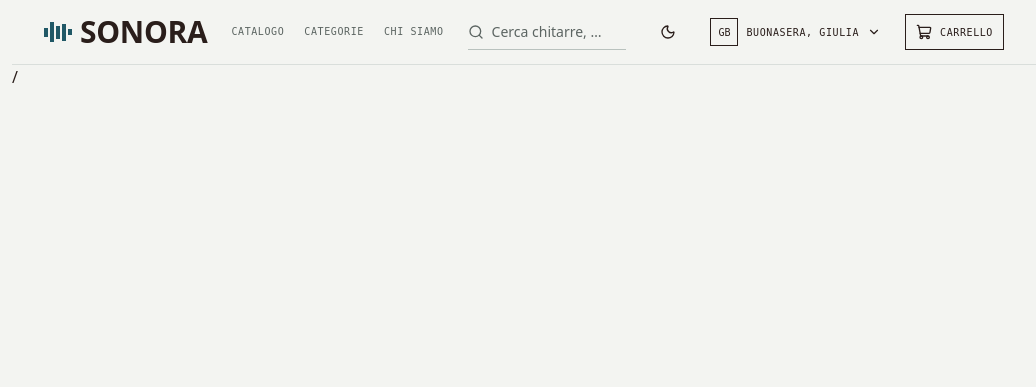
Test: menu dell'account › agli admin mostra anche la Dashboard, in cima al menu
Click the button with aria-label "Il mio account" at (796, 32), box [710, 14, 881, 50]
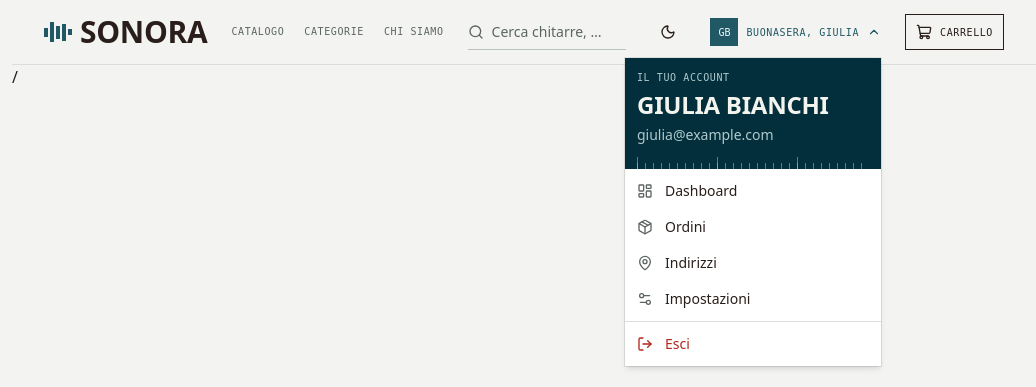
expect the menu item "Dashboard" is shown: met, box [637, 181, 738, 200]
